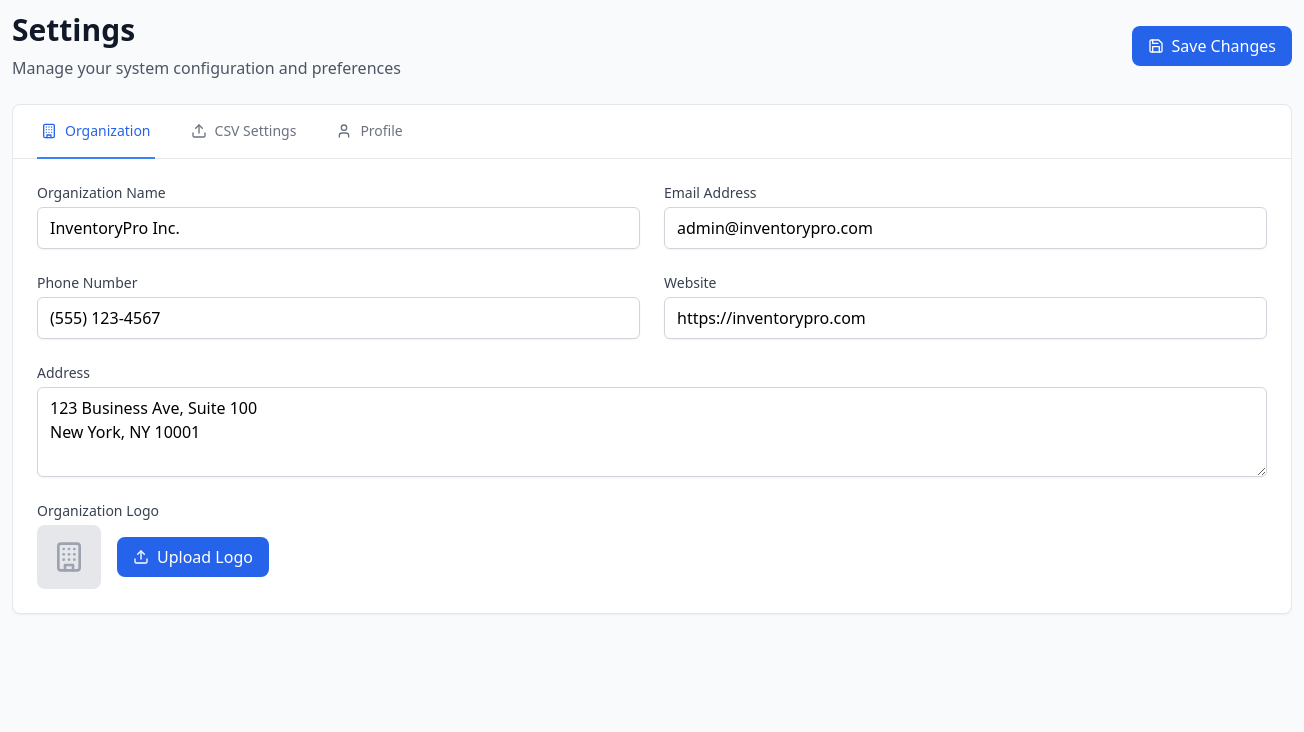
Test case: Settings Component › Save Changes button updates localStorage and shows toast
This screenshot has width=1304, height=732.
Click the button "Save Changes" at (1212, 46), box x1=1132 y1=26 x2=1292 y2=66
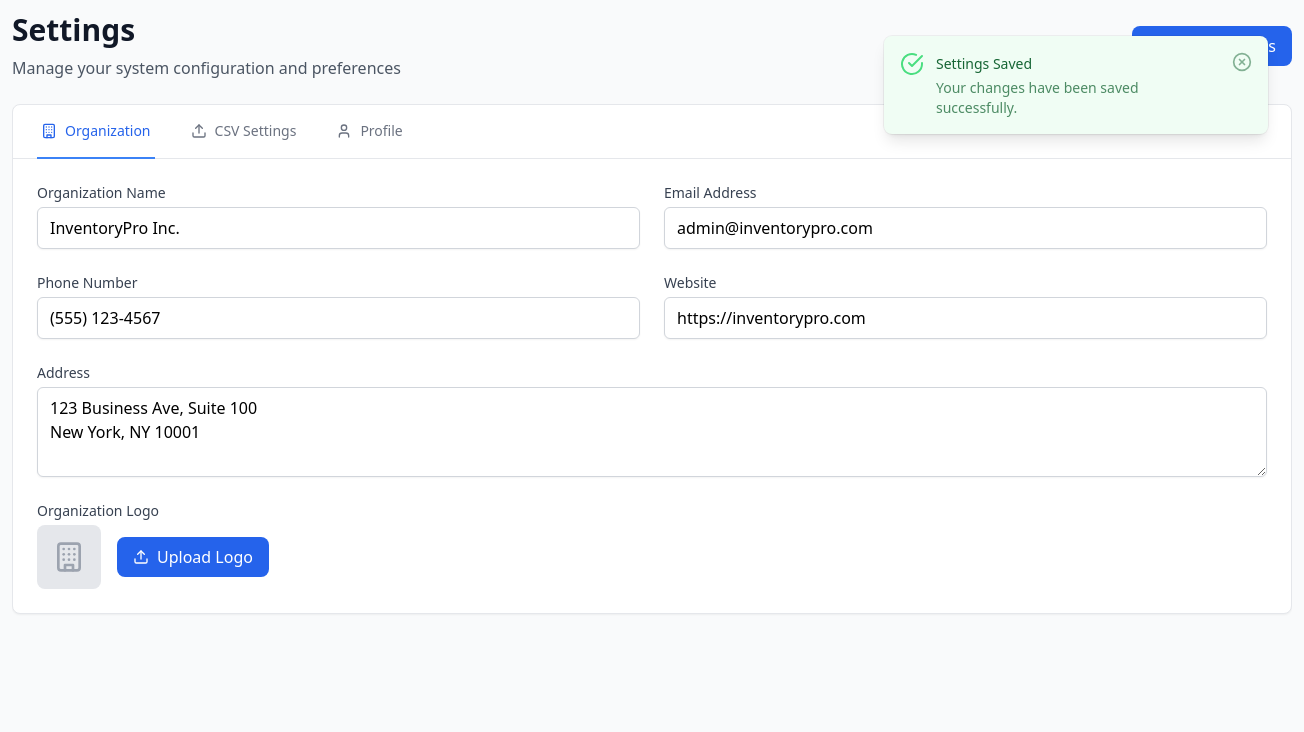
Expected: the text "Settings Saved" is shown, x1=936 y1=54 x2=1032 y2=73
